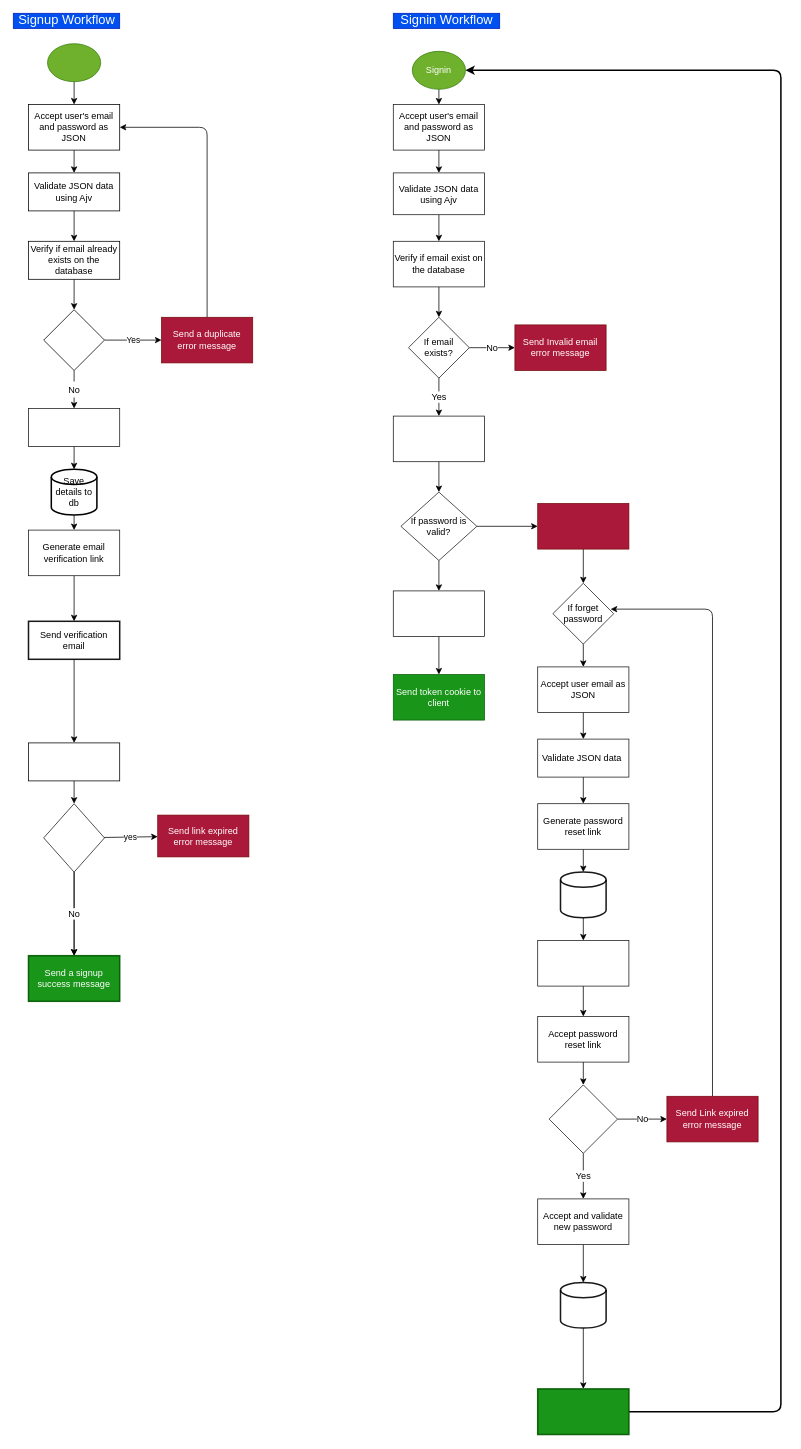
Some shapes in this 801 by 1449 pixel diagram are drawn without their labels. The shapes that lost their labels are listed below. From the top down, each one's centre as x and y in pixels, then its label:
the point at 74,62: Signup
the point at 73,339: If acccount exits?
the point at 74,427: Hash password
the point at 438,438: Verify password
the point at 583,526: Send Invalid password error message
the point at 438,613: Generate authentication token with _id and email
the point at 74,761: Verify link
the point at 73,837: If link expired?
the point at 582,894: Save reset link to database
the point at 583,963: Send password reset link to email
the point at 583,1118: If link is valid (not expired)
the point at 582,1304: Update new password on db
the point at 583,1411: Send password reset success message
